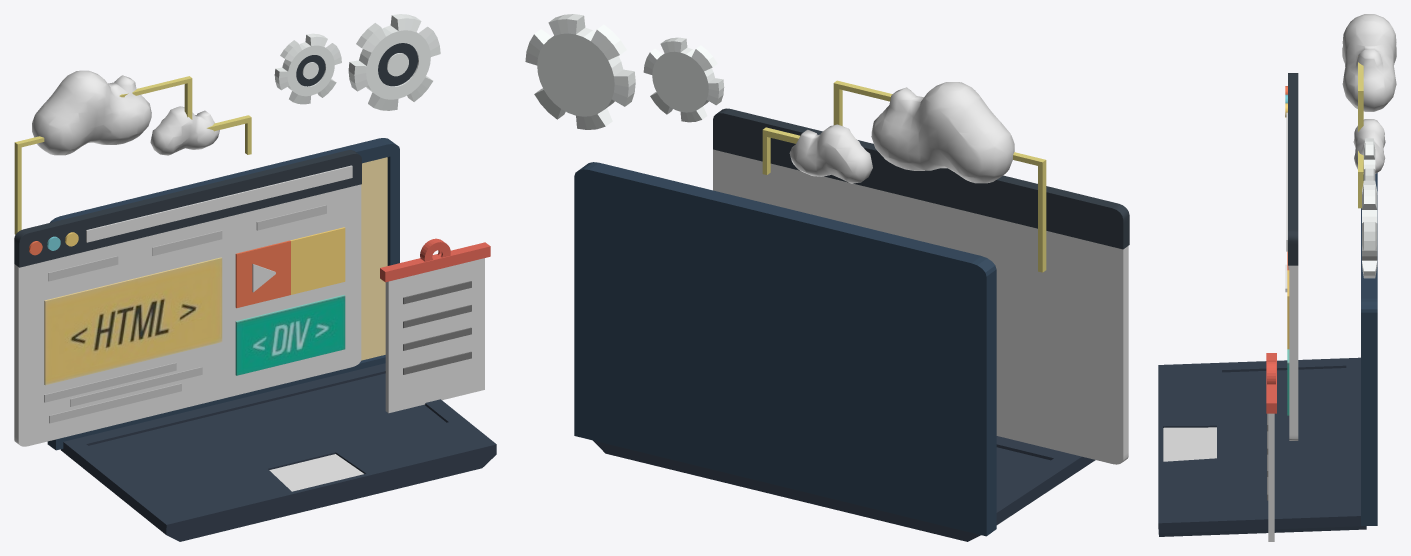
Rendered from anim.glb.
3 renders of one model, left to right at view 1: azimuth 30°, elevation 25°; view 2: azimuth 150°, elevation 25°; view 3: azimuth 270°, elevation 25°, orthographic. The views are drawn at different scales.
Parts seen in each view (by area): view 1: Cube007, Cube, Cube001, Cube008, Cube006, Mball008, Cube003, Cylinder003, Cube002, Cube005, Cube016, Cylinder004 (+4 smaller); view 2: Cube006, Cube, Mball008, Cylinder003, Cube007, Cylinder004, Cube014; view 3: Cube007, Mball008, Cube006, Cube, Cylinder003, Cube008, Cube014, Cube009, Cylinder004.
Part boxes in pixels (x1=…): Cube007: x1=60, y1=363, x2=496, y2=541; Cube: x1=14, y1=150, x2=361, y2=446; Cube001: x1=44, y1=257, x2=222, y2=385; Cube008: x1=385, y1=258, x2=484, y2=413; Cube006: x1=47, y1=138, x2=399, y2=450; Mball008: x1=32, y1=70, x2=219, y2=155; Cube003: x1=235, y1=295, x2=345, y2=375; Cylinder003: x1=348, y1=14, x2=440, y2=110; Cube002: x1=235, y1=227, x2=345, y2=308; Cube005: x1=86, y1=165, x2=352, y2=242; Cube016: x1=44, y1=362, x2=202, y2=423; Cylinder004: x1=274, y1=33, x2=341, y2=104; Cube006: x1=574, y1=162, x2=996, y2=536; Cube: x1=713, y1=108, x2=1129, y2=464; Mball008: x1=789, y1=82, x2=1014, y2=183; Cylinder003: x1=525, y1=14, x2=635, y2=129; Cube007: x1=593, y1=436, x2=1095, y2=541; Cylinder004: x1=643, y1=37, x2=724, y2=122; Cube014: x1=762, y1=80, x2=1046, y2=272; Cube007: x1=1158, y1=357, x2=1366, y2=536; Mball008: x1=1342, y1=14, x2=1396, y2=173; Cube006: x1=1361, y1=173, x2=1377, y2=525; Cube: x1=1288, y1=73, x2=1298, y2=440; Cylinder003: x1=1362, y1=180, x2=1377, y2=278; Cube008: x1=1268, y1=413, x2=1274, y2=541; Cube014: x1=1358, y1=62, x2=1363, y2=208; Cube009: x1=1266, y1=353, x2=1276, y2=413; Cylinder004: x1=1364, y1=138, x2=1375, y2=180.
Size of the model in its own units: 2.93 by 2.36 by 1.34.
Materials: 24 (2 with a texture image).
